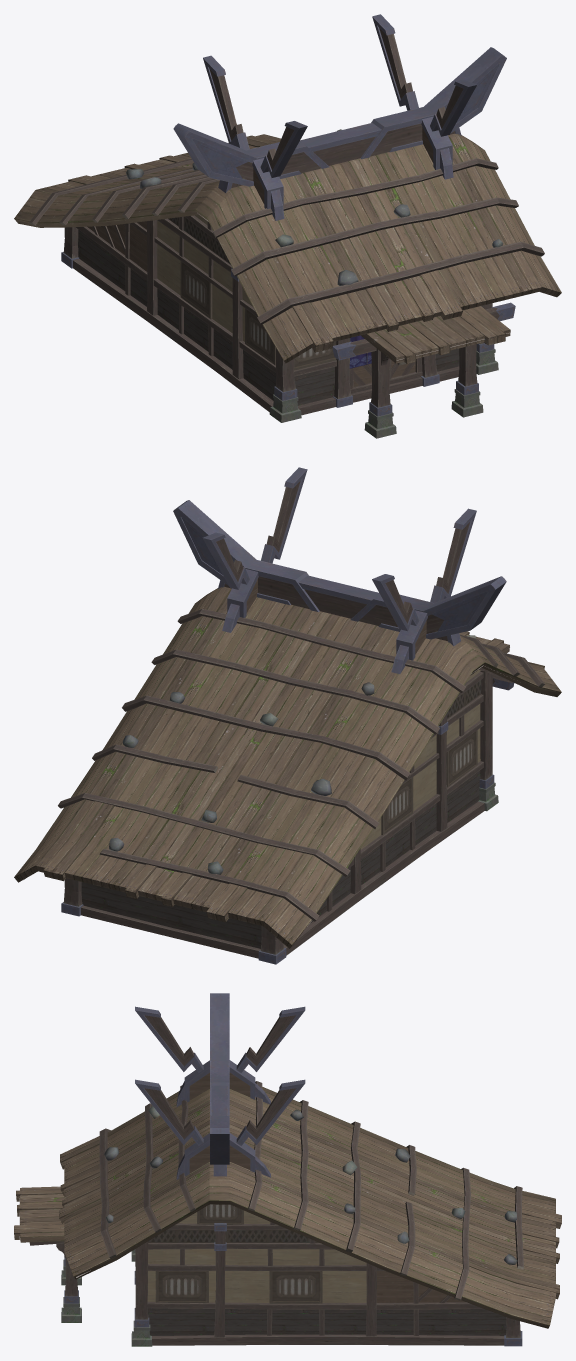
The model's file is Homeworld_Exterior_Dq_Build_House_27_Lod0.fbx.
The picture shows the model from 3 angles, top to bottom: view 1: azimuth 30°, elevation 25°; view 2: azimuth 150°, elevation 25°; view 3: azimuth 270°, elevation 25°; orthographic projection. The views are drawn at different scales.
Visible parts, largest first — view 1: Area_Dq_Build_SWZ_Mfjunying_02_Lod0; view 2: Area_Dq_Build_SWZ_Mfjunying_02_Lod0; view 3: Area_Dq_Build_SWZ_Mfjunying_02_Lod0.
Boxes of the visible parts, left/top/right/bottom form: Area_Dq_Build_SWZ_Mfjunying_02_Lod0: left=14, top=14, right=561, bottom=438; Area_Dq_Build_SWZ_Mfjunying_02_Lod0: left=14, top=467, right=561, bottom=964; Area_Dq_Build_SWZ_Mfjunying_02_Lod0: left=14, top=993, right=561, bottom=1346.
Size of what is drawn, in the model's own units: 10.41 by 8.91 by 17.35.
